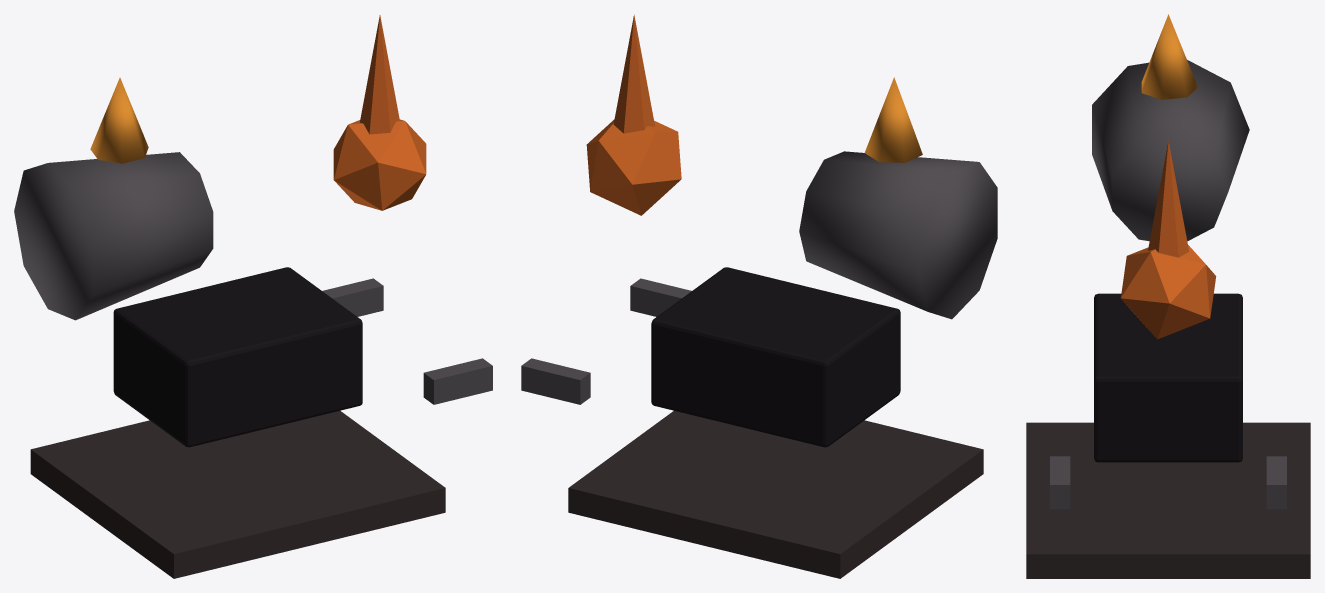
The model's file is ember_inferno_engine.glb.
3 renders of one model, left to right at view 1: azimuth 30°, elevation 25°; view 2: azimuth 150°, elevation 25°; view 3: azimuth 270°, elevation 25°, orthographic.
Parts seen in each view (by area): view 1: ember_inferno_engine; view 2: ember_inferno_engine; view 3: ember_inferno_engine.
Part boxes in pixels (x1,y1,x2,y2): ember_inferno_engine: [14, 15, 492, 578]; ember_inferno_engine: [521, 14, 997, 578]; ember_inferno_engine: [1026, 14, 1310, 578].
Size of the model in its own units: 32 by 36 by 21.
